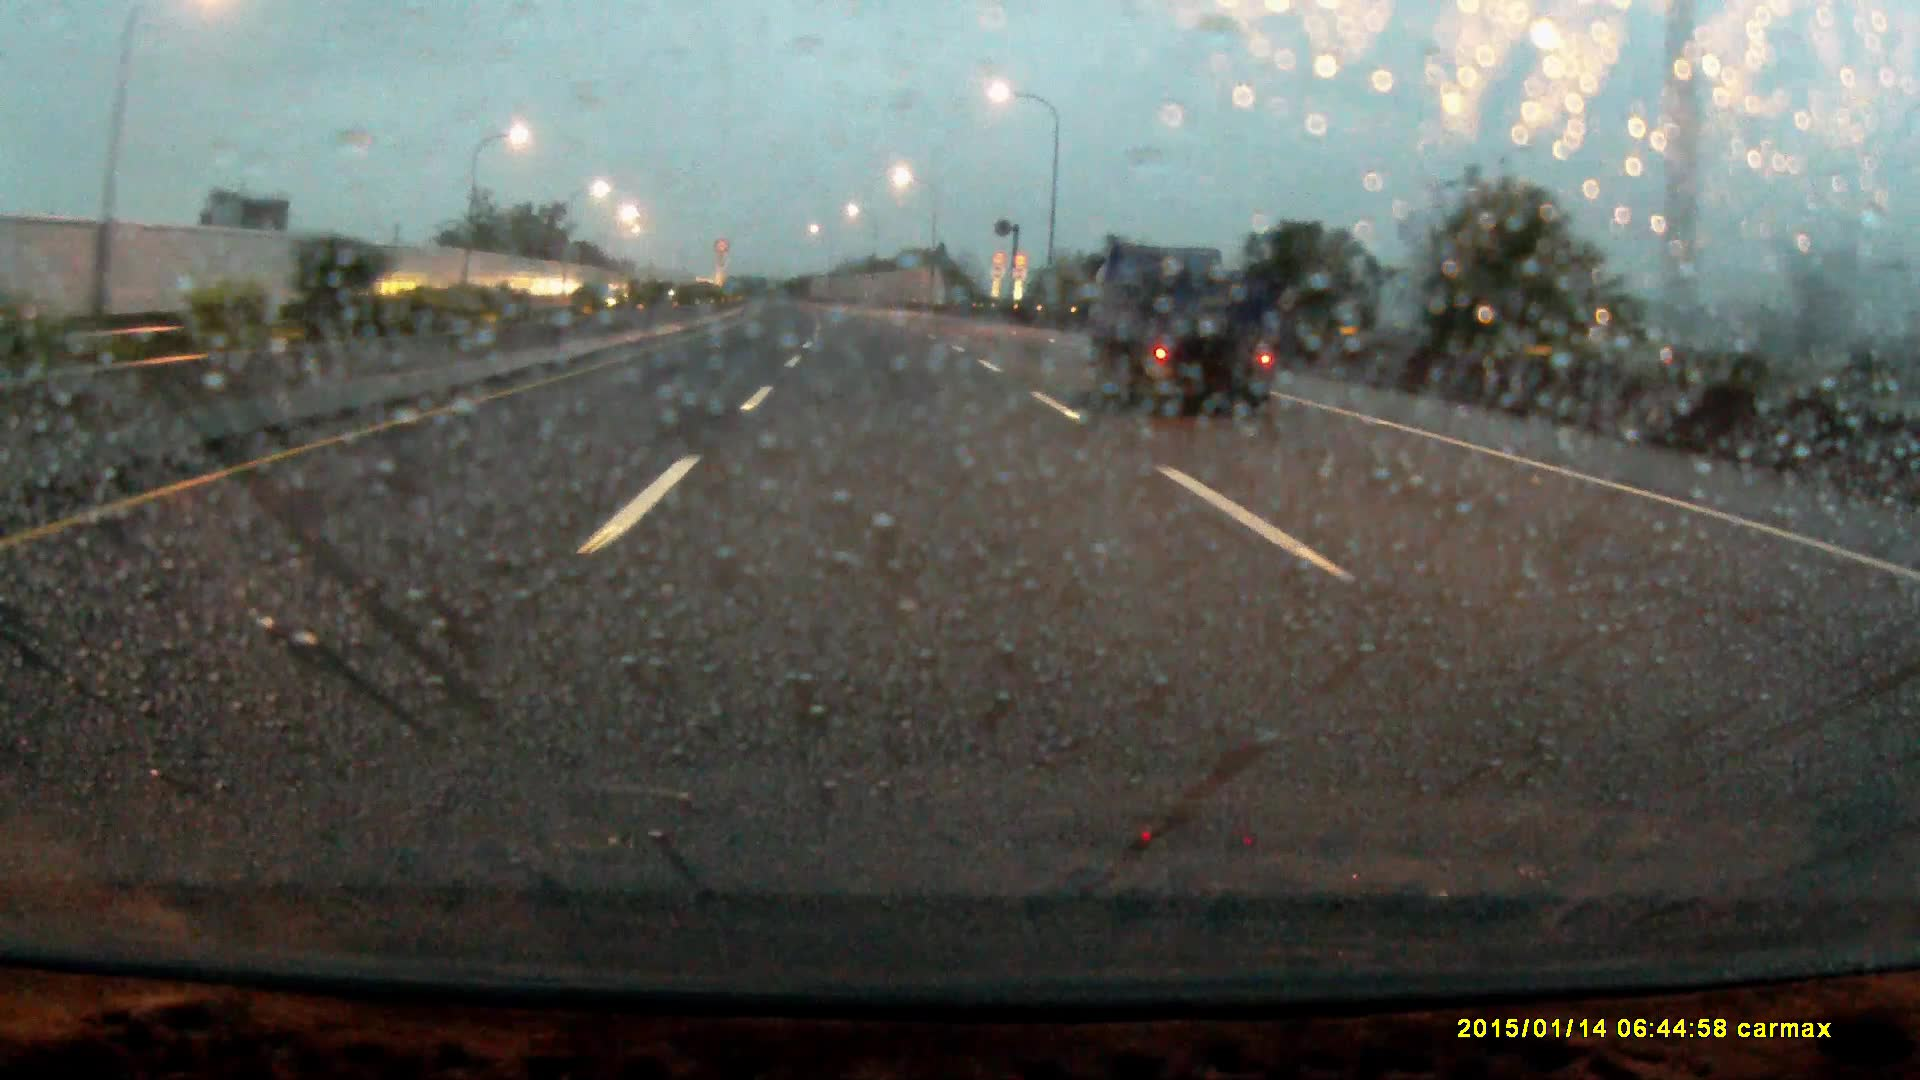vehicle: (1084, 244, 1276, 414)
